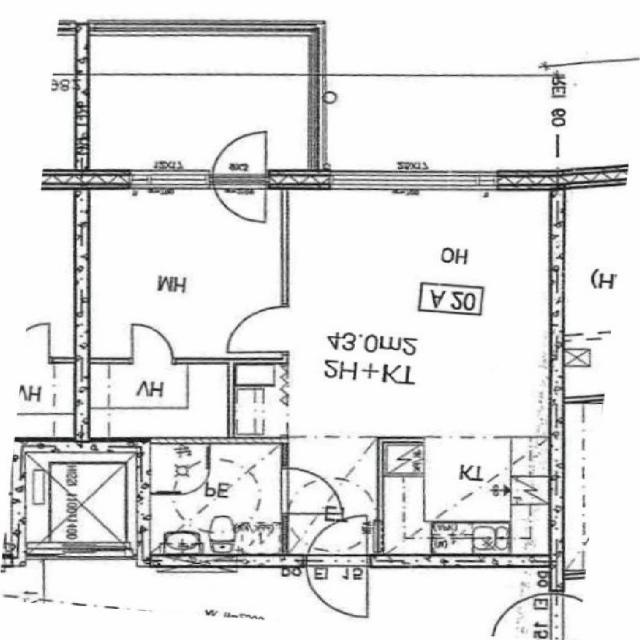door: (307, 554, 367, 617), (307, 504, 367, 566), (212, 125, 266, 189), (212, 170, 266, 234), (281, 468, 344, 514), (226, 307, 289, 352), (132, 323, 173, 363)
